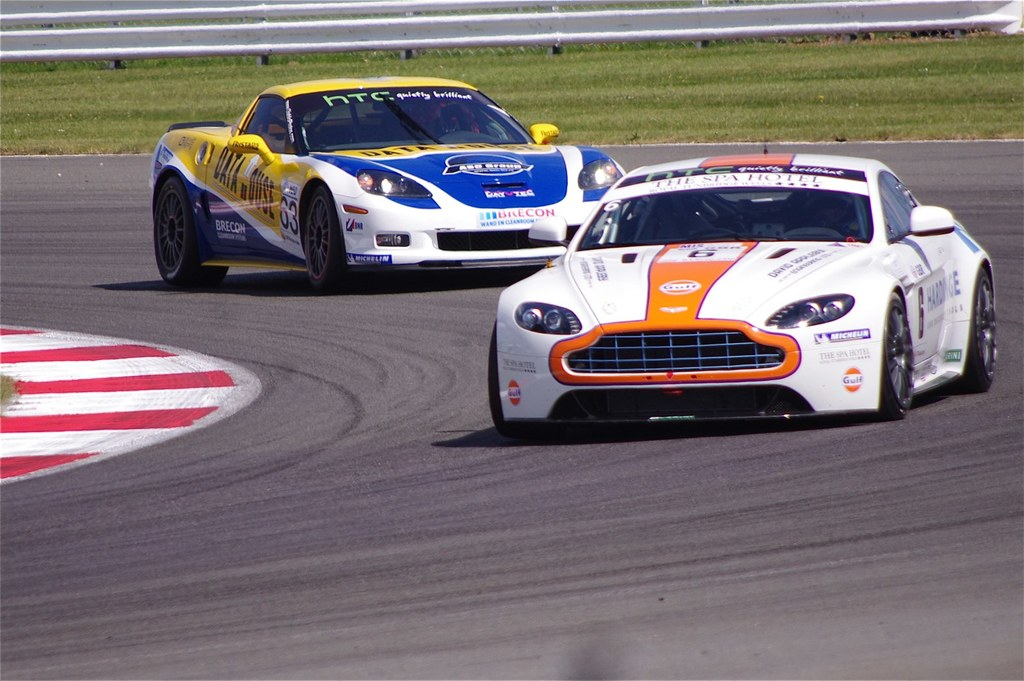car: (466, 137, 1005, 472), (112, 58, 638, 287)
